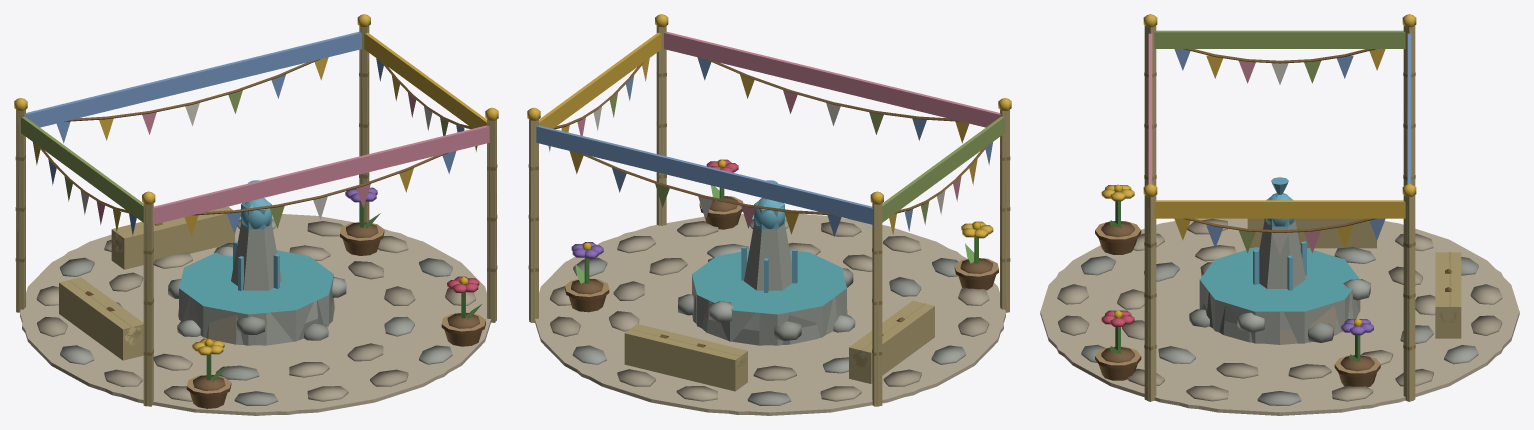
Rendered from plaza.glb.
The picture shows the model from 3 angles, left to right: view 1: azimuth 30°, elevation 25°; view 2: azimuth 150°, elevation 25°; view 3: azimuth 270°, elevation 25°; orthographic projection.
Parts seen in each view (by area): view 1: body, body__far, body_nh, body_nl; view 2: body, body__far, body_nh, body_nl; view 3: body, body__far, body_nh, body_nl.
Part boxes in pixels (<box>): body: <box>14,14,498,415</box>; body__far: <box>16,26,496,414</box>; body_nh: <box>33,57,481,381</box>; body_nl: <box>192,187,479,355</box>; body: <box>527,14,1011,415</box>; body__far: <box>529,26,1009,414</box>; body_nh: <box>548,57,992,292</box>; body_nl: <box>571,159,993,258</box>; body: <box>1040,14,1519,415</box>; body__far: <box>1041,25,1519,412</box>; body_nh: <box>1110,49,1385,361</box>; body_nl: <box>1101,184,1373,335</box>.
Bounding box in the file's own units: 3.7 × 1.87 × 3.7.
